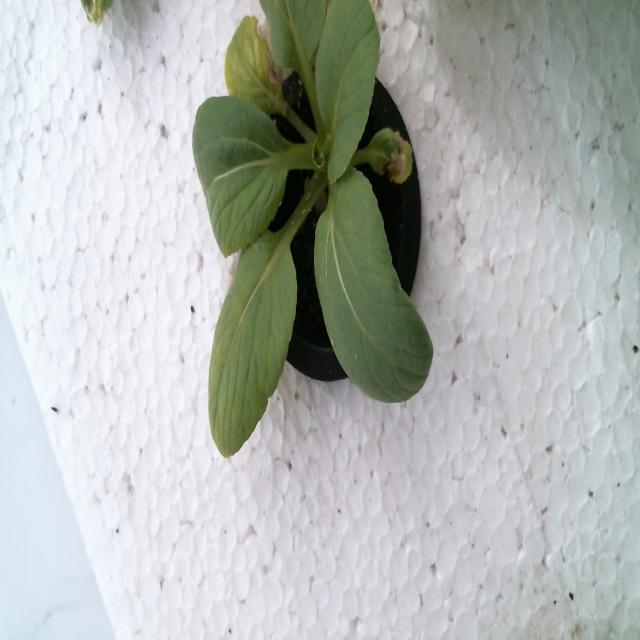pakcoy_tidak_sehat: (183, 0, 464, 462)
